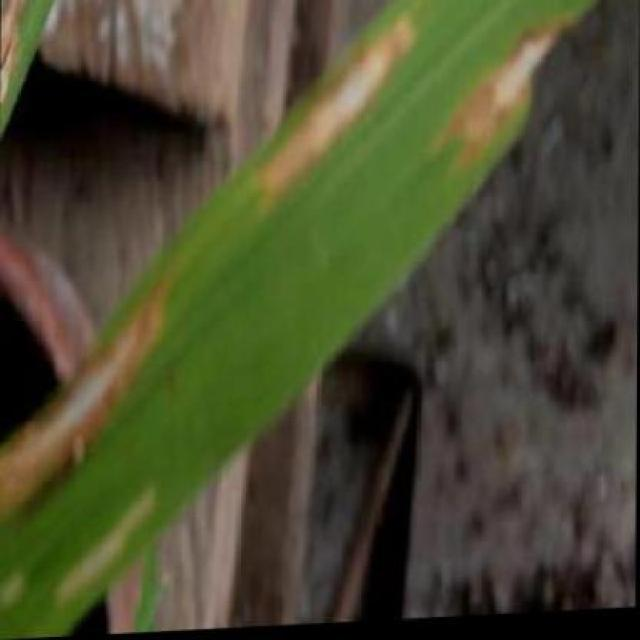Bacterial_Leaf_Blight: (233, 0, 438, 228), (5, 278, 190, 527), (443, 8, 608, 190)
Brown_Spot: (0, 0, 65, 277)
